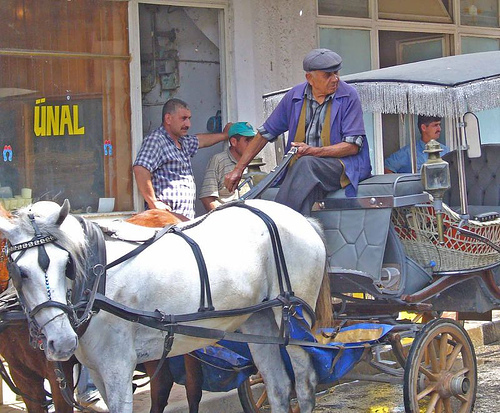horse: (1, 193, 332, 411)
